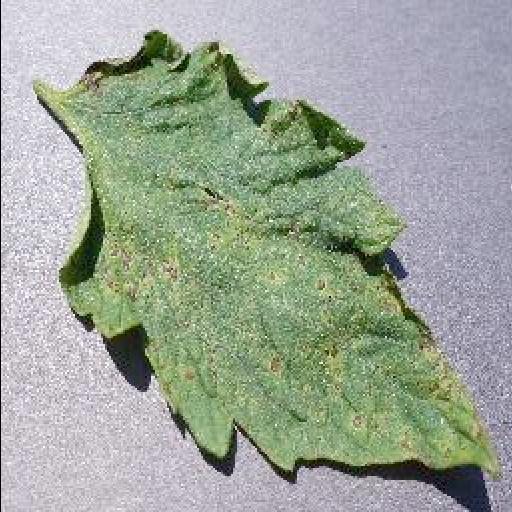disease_tomato: (56, 28, 506, 478)
